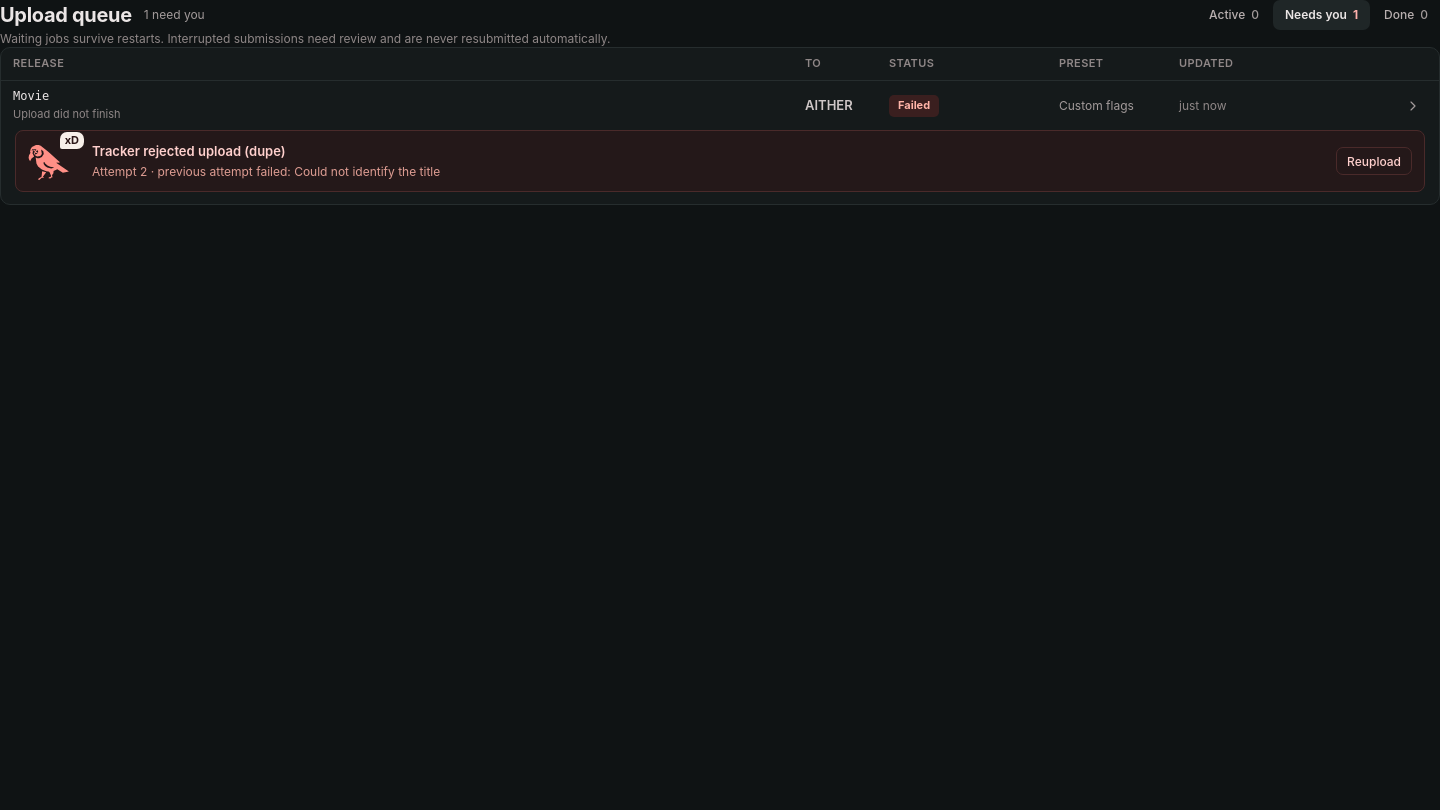
Test: shows failed jobs with an inline xD error, retry action and details
expect the text "Tracker rejected upload (dupe)" is shown: met, box [92,143,286,159]
expect the text "Attempt 2 · previous attempt failed: Could not identify the title" is shown: met, box [92,164,440,179]
Click the button named "Details for Movie": {"x": 1413, "y": 106} [1399,92,1427,120]
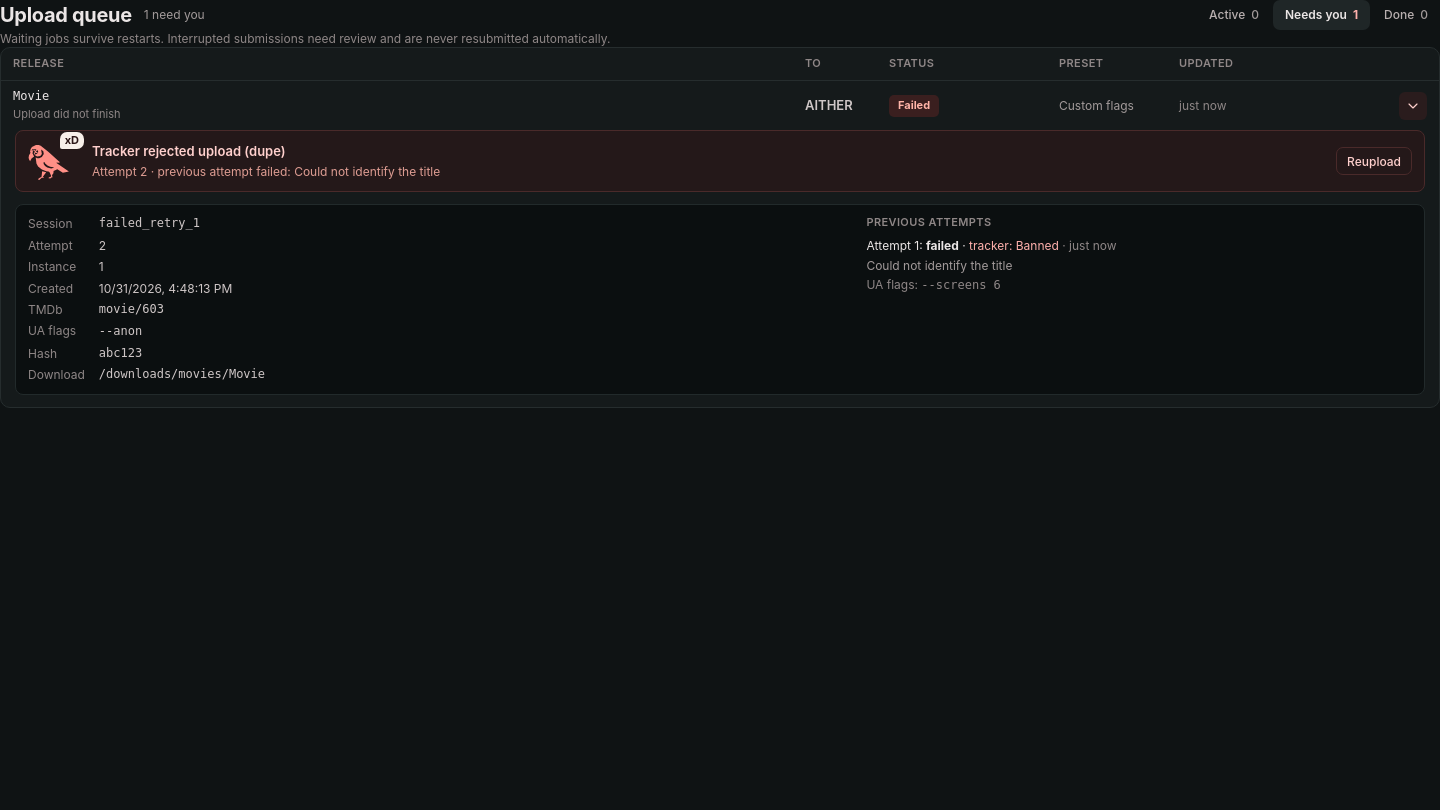
expect the button named "Details for Movie" is expanded: met, box [1399,92,1427,120]
expect the text "failed_retry_1" is shown: met, box [99,216,200,230]
expect the text "movie/603" is shown: met, box [99,302,164,316]
Click the button "Reupload": {"x": 1374, "y": 161} [1336,147,1412,175]
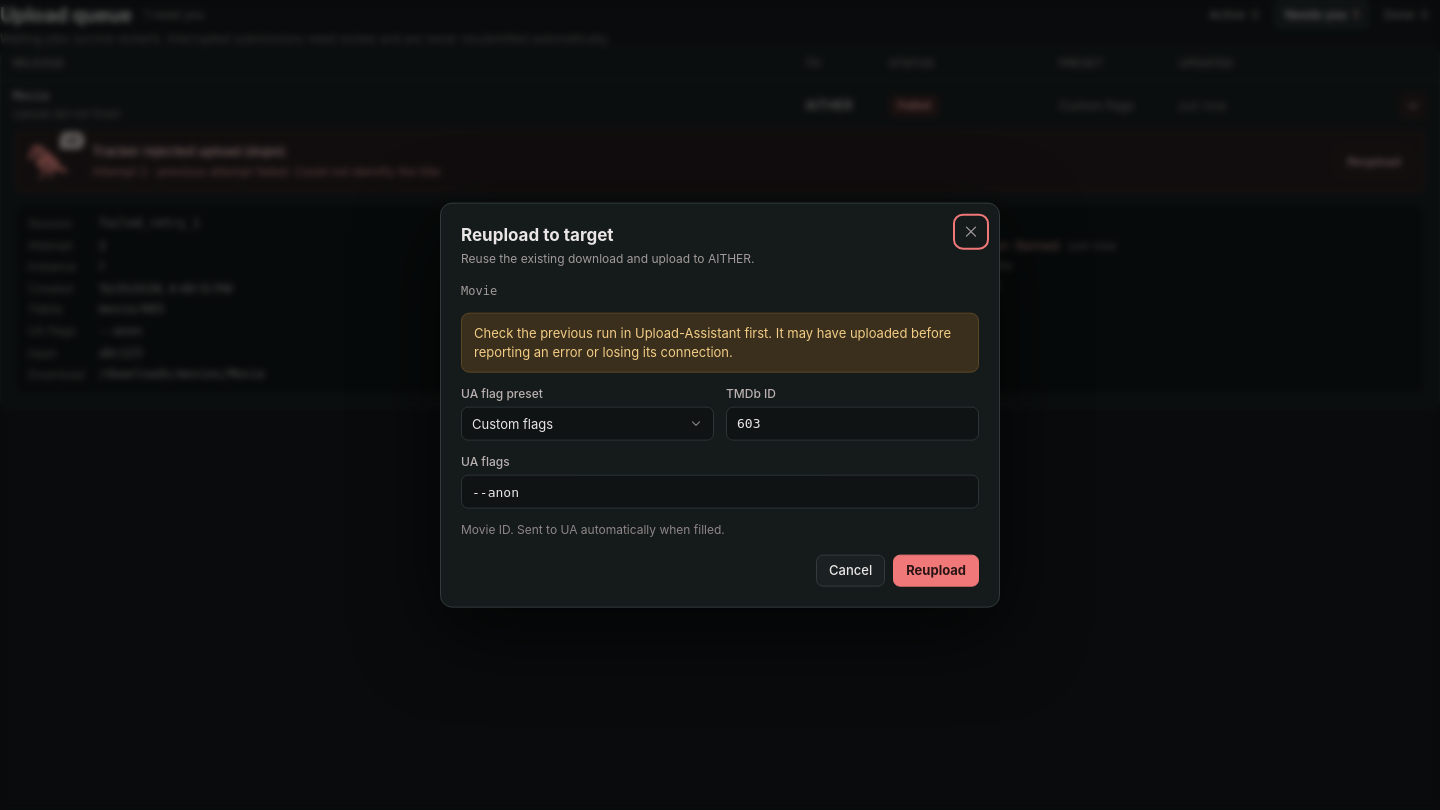
expect the heading "Reupload to target" is shown: met, box [461,225,614,245]
